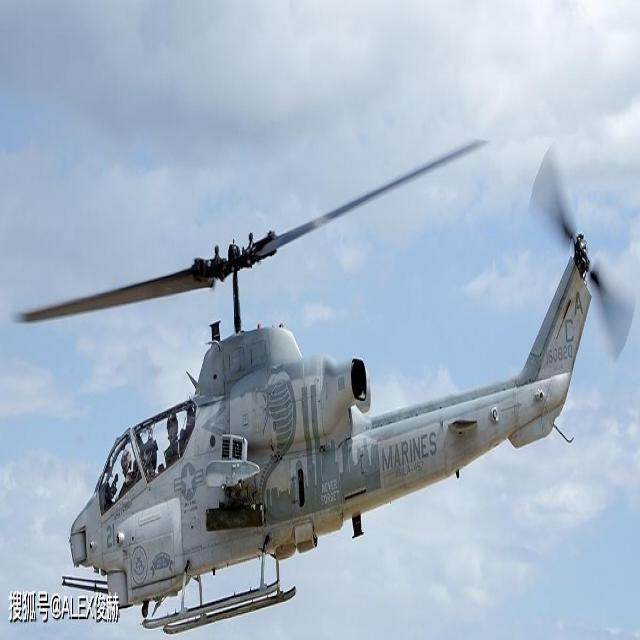MIL_HELO: (32, 130, 624, 598)
